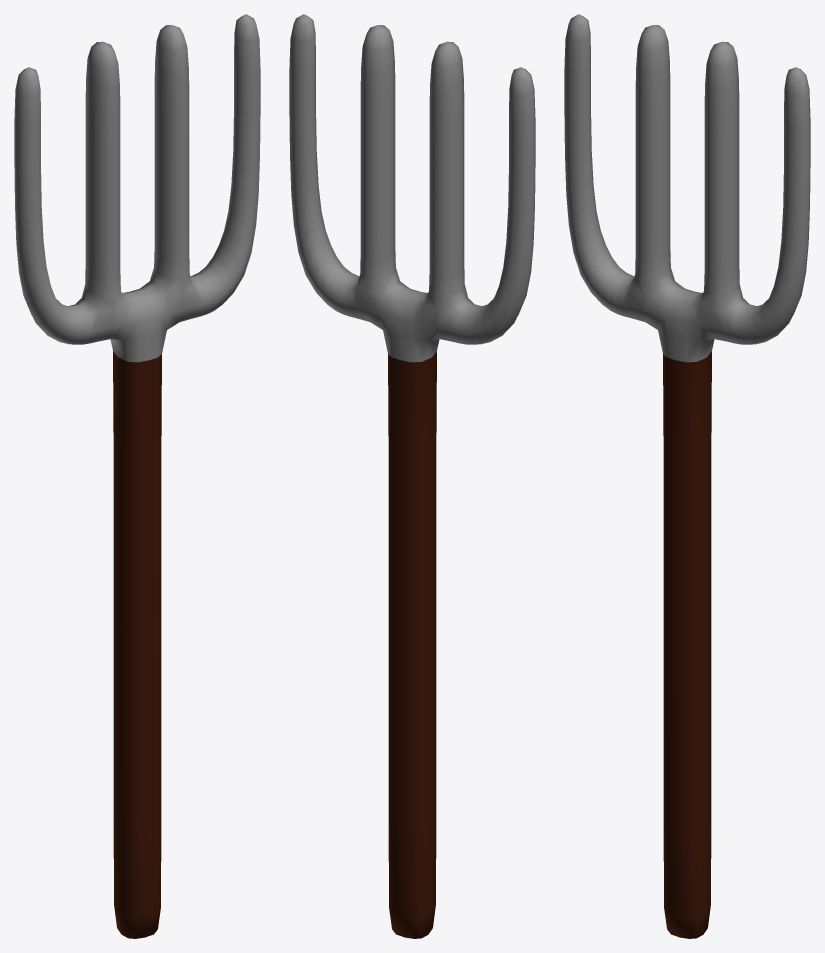
Rendered from pitchfork.fbx.
The picture shows the model from 3 angles, left to right: view 1: azimuth 30°, elevation 25°; view 2: azimuth 150°, elevation 25°; view 3: azimuth 330°, elevation 25°; orthographic projection.
Visible parts, largest first — view 1: picthfork4; view 2: picthfork4; view 3: picthfork4.
Part boxes in pixels (left/top/right/bottom): picthfork4: left=14, top=14, right=260, bottom=938; picthfork4: left=289, top=14, right=535, bottom=938; picthfork4: left=564, top=14, right=810, bottom=938.
Size of the model in its own units: 2.44 by 8.68 by 0.3957.
